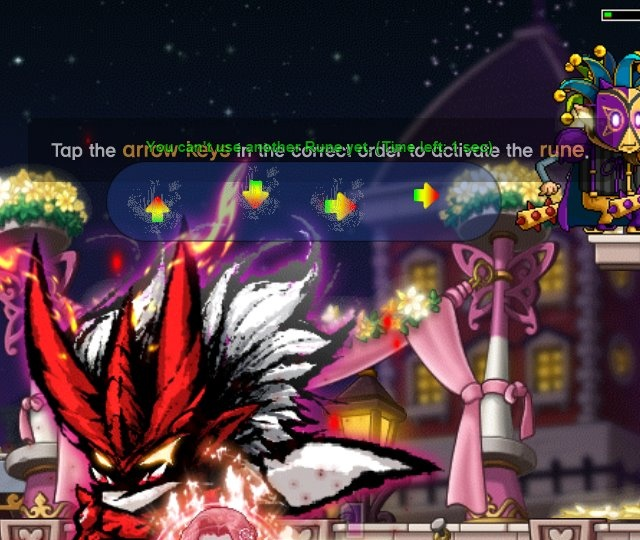down: (233, 174, 277, 215)
right: (316, 186, 364, 230), (405, 177, 442, 213)
up: (139, 190, 175, 227)
